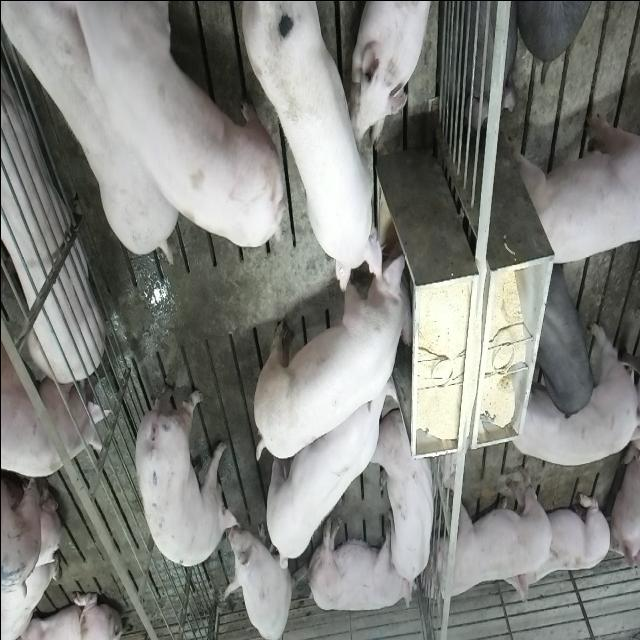Feeding: (242, 6, 396, 296), (255, 240, 419, 466)
Lateral_lying: (0, 19, 102, 386), (306, 514, 412, 614)
Sitting: (226, 511, 294, 638)
Standing: (3, 0, 183, 262), (132, 6, 286, 256), (260, 356, 394, 572), (129, 364, 235, 568), (511, 104, 639, 266), (505, 320, 635, 468), (422, 461, 554, 592), (0, 335, 105, 476), (536, 264, 594, 420)
Sternal_lying: (510, 485, 610, 608), (375, 408, 438, 598), (353, 0, 434, 146)
